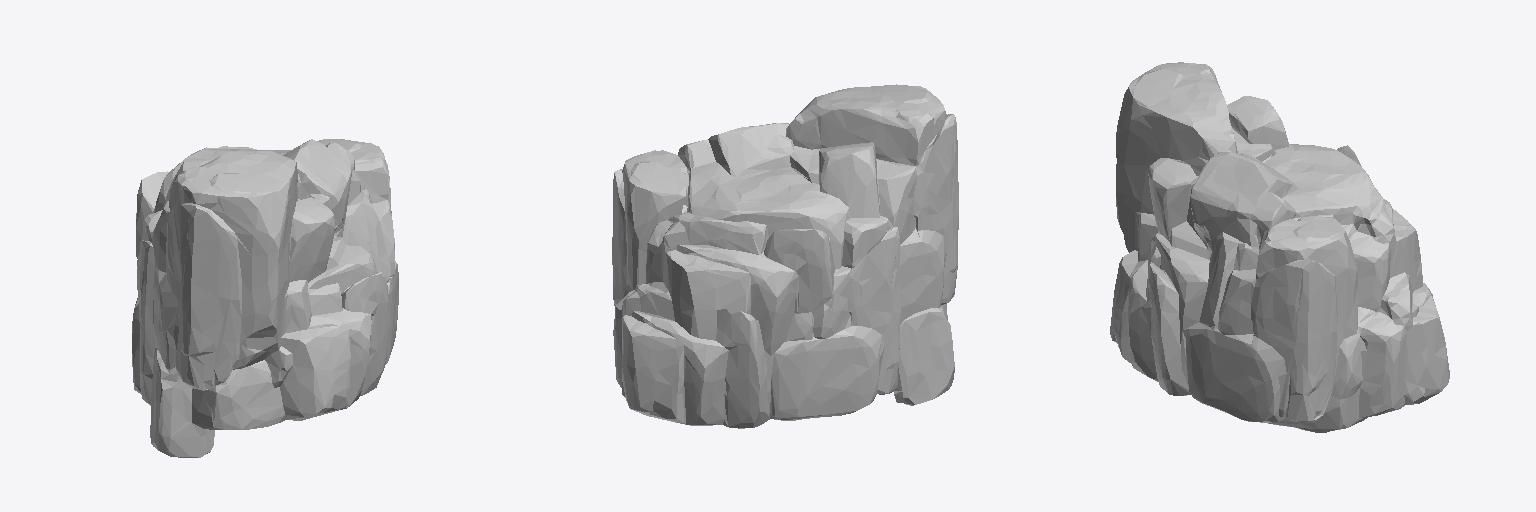
The model's file is SM_Rock_Formation_01.obj.
The picture shows the model from 3 angles: view 1: azimuth 30°, elevation 25°; view 2: azimuth 150°, elevation 25°; view 3: azimuth 270°, elevation 25°; orthographic projection.
Visible parts, largest first — view 1: SM_Rock_Formation_01; view 2: SM_Rock_Formation_01; view 3: SM_Rock_Formation_01.
Boxes of the visible parts, x1=… form: SM_Rock_Formation_01: x1=132, y1=139, x2=398, y2=457; SM_Rock_Formation_01: x1=612, y1=84, x2=958, y2=428; SM_Rock_Formation_01: x1=1110, y1=62, x2=1449, y2=432.
Bounding box in the file's own units: 404 × 380 × 419.